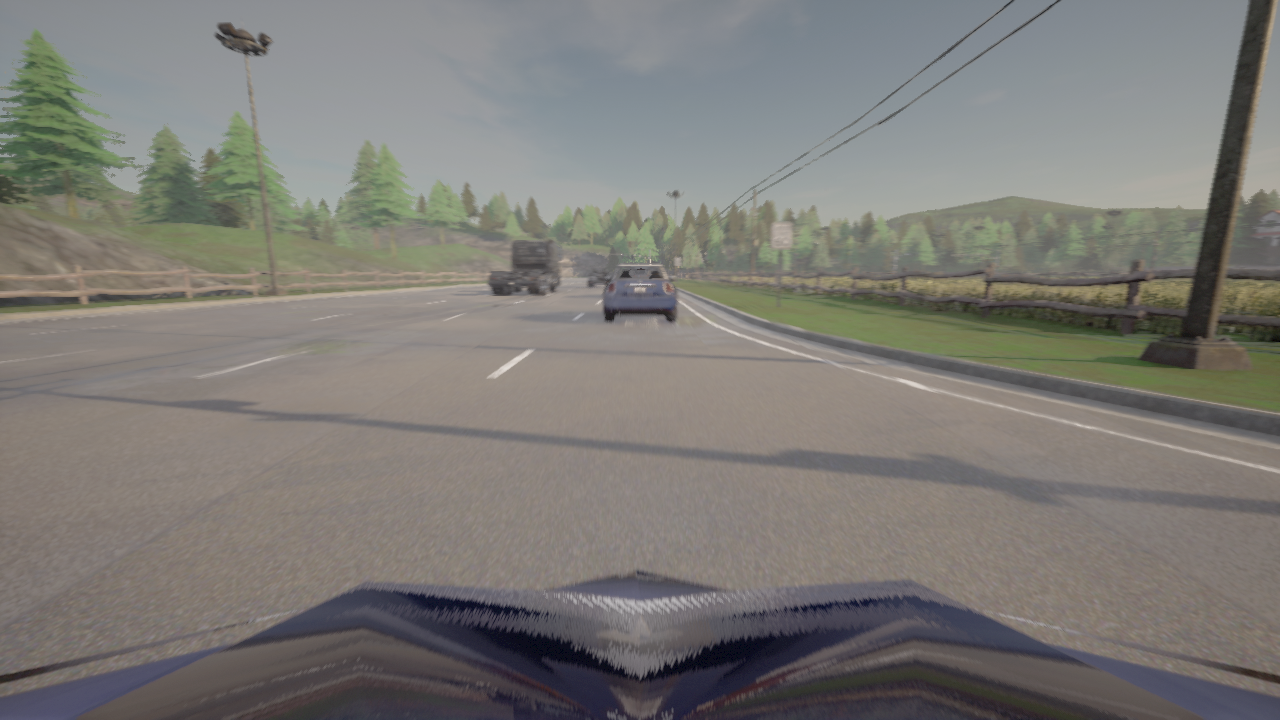cyclist: (0, 569, 1279, 719), (603, 263, 677, 321), (488, 238, 561, 294), (588, 266, 610, 287)
